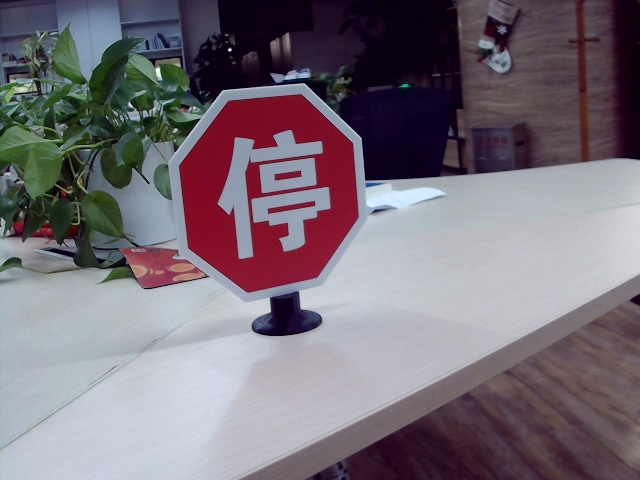stop: (214, 124, 331, 255)
